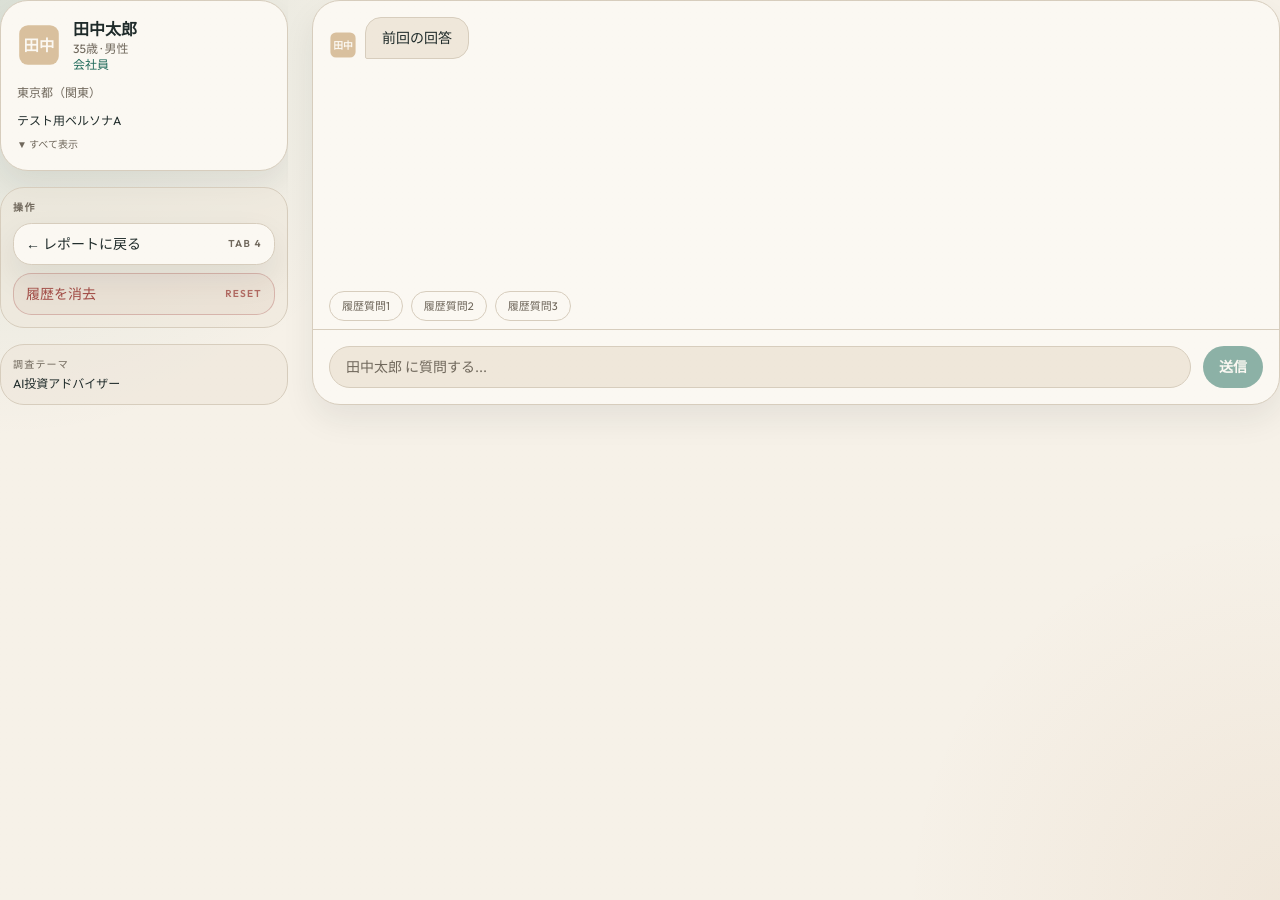
Test case: FollowUpChat › replaces the streaming placeholder with a stable error message on SSE failure
Type "失敗する質問" into the field with test id "followup-input".
click(760, 367); type("失敗する質問")  # box [329, 346, 1191, 388]
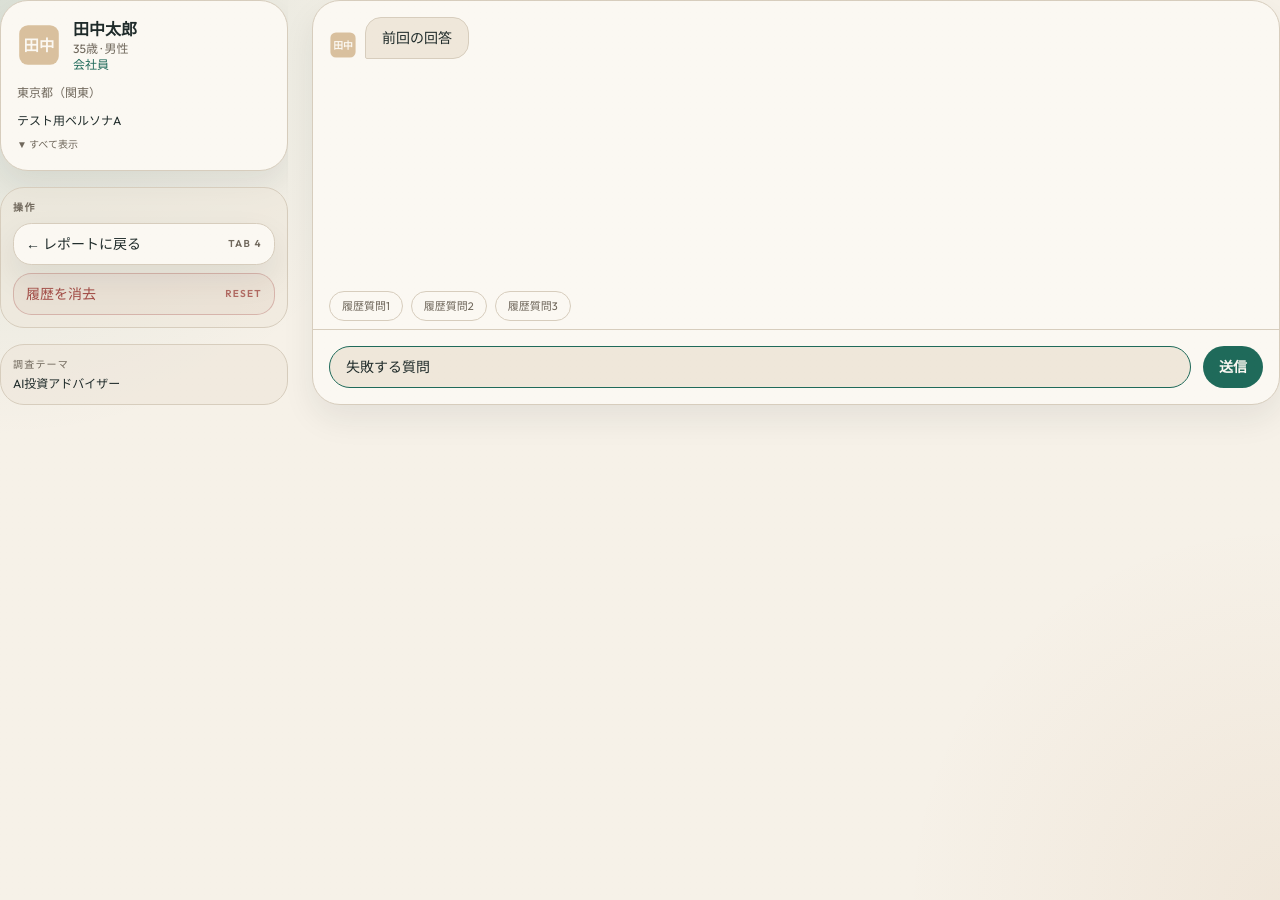
Click the button "送信".
click(1233, 367)  # box [1203, 346, 1263, 388]
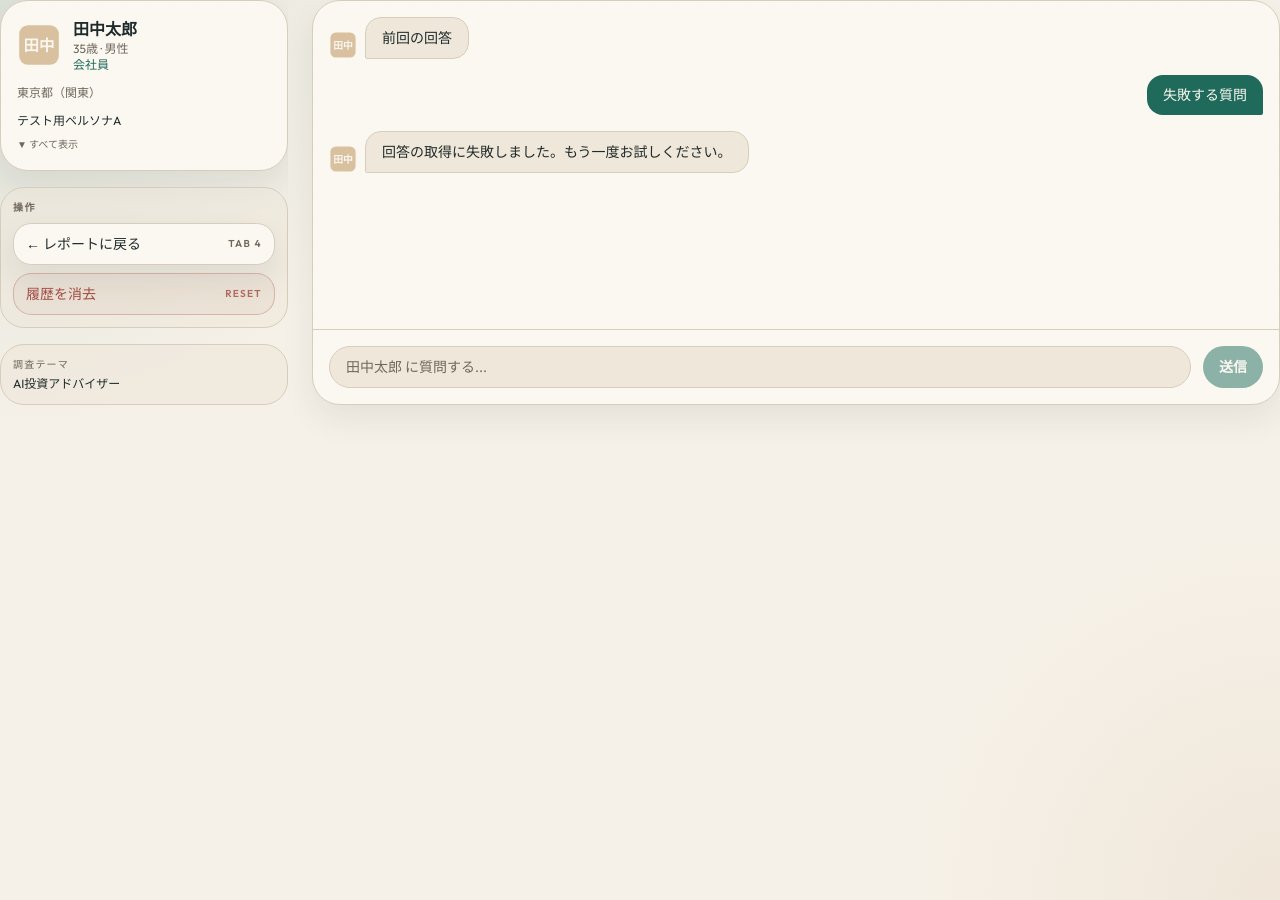
expect the text "回答の取得に失敗しました。もう一度お試しください。" is shown: met, box [365, 131, 749, 173]
